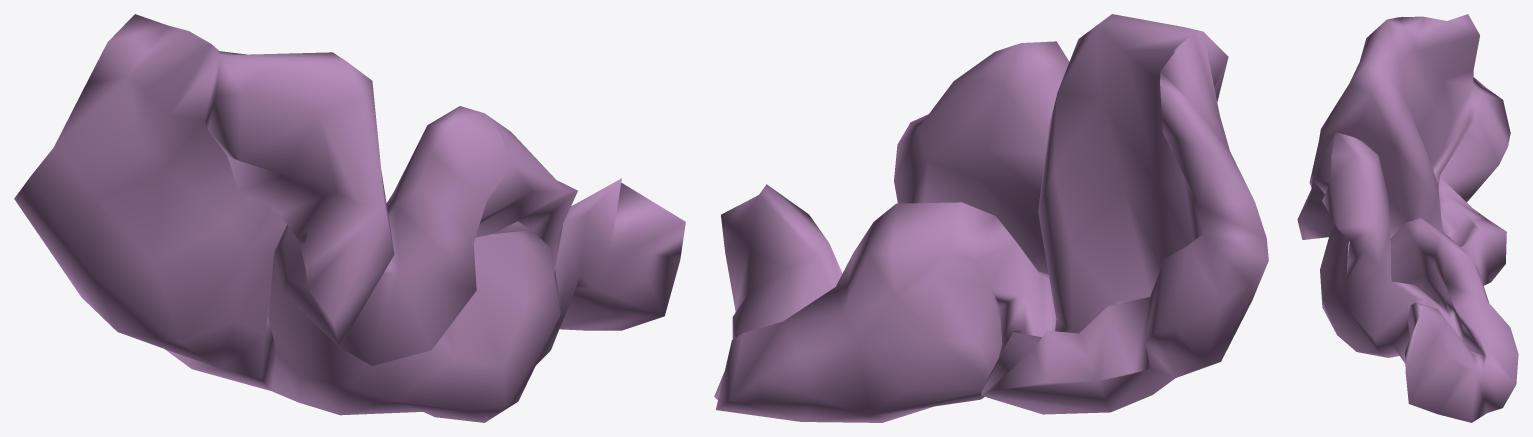
3 renders of one model, left to right at view 1: azimuth 30°, elevation 25°; view 2: azimuth 150°, elevation 25°; view 3: azimuth 270°, elevation 25°, orthographic. The views are drawn at different scales.
Visible parts, largest first — view 1: 右侧额缘回与额缘沟; view 2: 右侧额缘回与额缘沟; view 3: 右侧额缘回与额缘沟.
Boxes of the visible parts, x1,y1,x2,y2 form: 右侧额缘回与额缘沟: (14, 14, 685, 422); 右侧额缘回与额缘沟: (714, 14, 1268, 422); 右侧额缘回与额缘沟: (1297, 14, 1518, 422).
Bounding box in the file's own units: 0.0585 × 0.0395 × 0.029.
